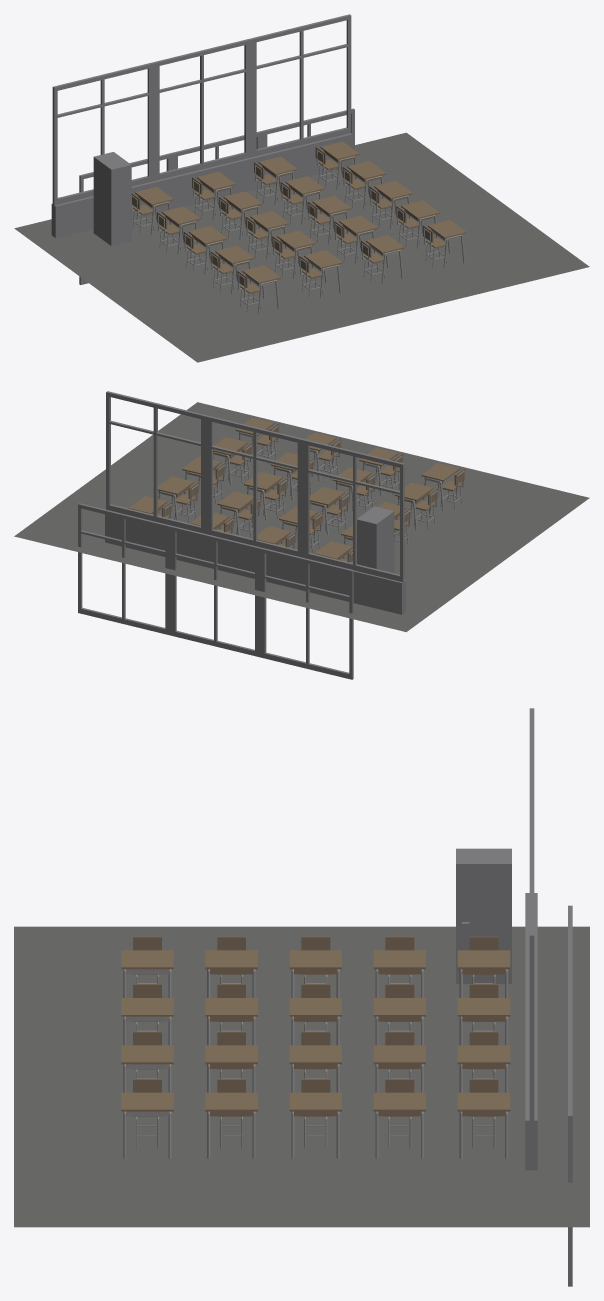
Rendered from 3d_classroom.fbx.
3 views of the same model, one above another, from view 1: azimuth 30°, elevation 25°; view 2: azimuth 150°, elevation 25°; view 3: azimuth 270°, elevation 25° (orthographic). The views are drawn at different scales.
Visible parts, largest first — view 1: pPlane4, pPlane1, pPlane2, pCube148, pPlane3, pCube145, pCube164, pCube154, pCube159, pCube146, pCube153, pCube161 (+13 smaller); view 2: pPlane4, pPlane1, pPlane3, pPlane2, pCube148, pCube145, pCube152, pCube161, pCube146, pCube157, pCube156, pCube163 (+12 smaller); view 3: pPlane4, pCube148, pPlane2, pPlane1, pCube160, pCube162, pCube164, pCube163, pCube161, pCube143, pCube155, pCube150 (+13 smaller).
Part boxes in pixels (x1,y1,x2,y2): pPlane4: (14, 132, 589, 362); pPlane1: (52, 14, 351, 205); pPlane2: (51, 133, 352, 238); pCube148: (93, 152, 131, 246); pPlane3: (79, 108, 354, 284); pCube145: (237, 265, 280, 313); pCube164: (423, 220, 466, 268); pCube154: (299, 250, 342, 298); pCube159: (361, 235, 404, 283); pCube146: (210, 245, 254, 293); pCube153: (272, 230, 315, 278); pCube161: (342, 161, 386, 209); pPlane4: (14, 402, 589, 632); pPlane1: (106, 391, 404, 582); pPlane3: (78, 503, 353, 679); pPlane2: (105, 514, 405, 614); pCube148: (357, 506, 394, 573); pCube145: (421, 462, 464, 510); pCube152: (310, 487, 349, 535); pCube161: (158, 476, 198, 523); pCube146: (394, 482, 438, 530); pCube157: (244, 472, 287, 519); pCube156: (217, 491, 260, 538); pCube163: (213, 437, 252, 485); pPlane4: (14, 926, 589, 1227); pCube148: (456, 848, 511, 983); pPlane2: (525, 893, 537, 1170); pPlane1: (529, 708, 534, 1120); pCube160: (457, 1078, 510, 1158); pCube162: (289, 1078, 341, 1158); pCube164: (121, 1078, 173, 1158); pCube163: (205, 1078, 257, 1158); pCube161: (373, 1078, 425, 1158); pCube143: (457, 936, 510, 997); pCube155: (457, 1031, 510, 1092); pCube150: (457, 984, 510, 1045).
Bounding box in the file's own units: 12.68 × 6.66 × 10.27.
